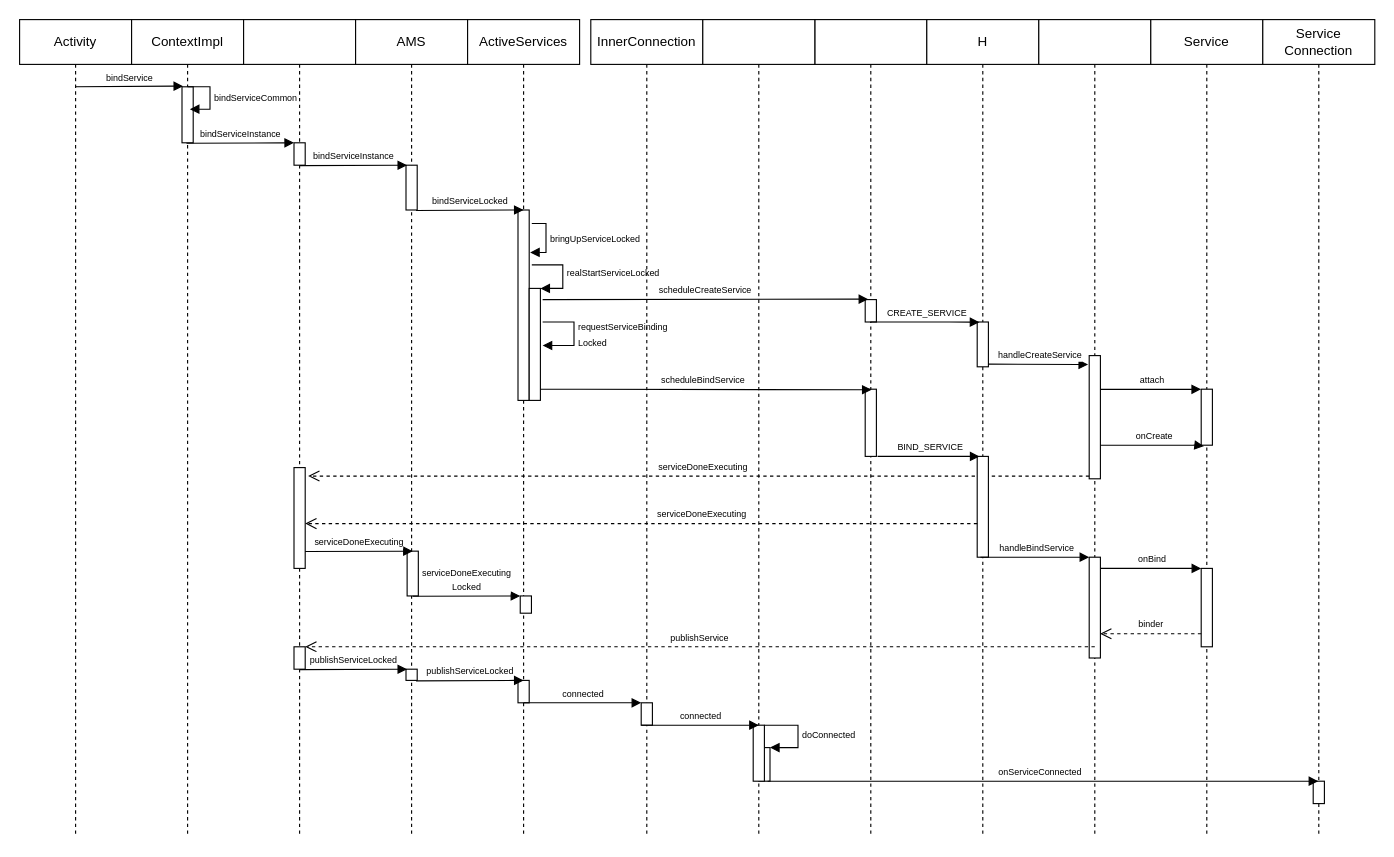
The diagram is 1394 pixels wide and 857 high, and some of its shapes have lost their labels. The shapes that lost their labels are listed below. From the top down, each one's box as (x1, y1, x2, y2) in pixels, then its label:
(242, 18, 356, 837): IActivityManager
(702, 18, 815, 837): ServiceDispatcher
(814, 18, 927, 837): IApplication Thread
(1038, 18, 1151, 837): ActivityThread
